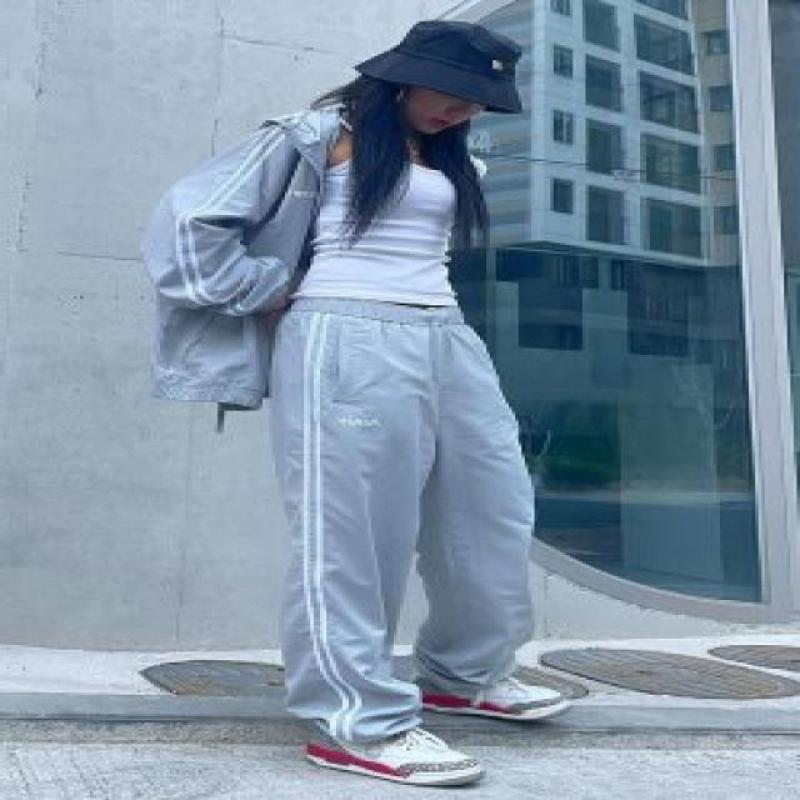jacket: (145, 106, 490, 409)
trousers: (266, 297, 541, 747)
vest: (297, 151, 462, 309)
